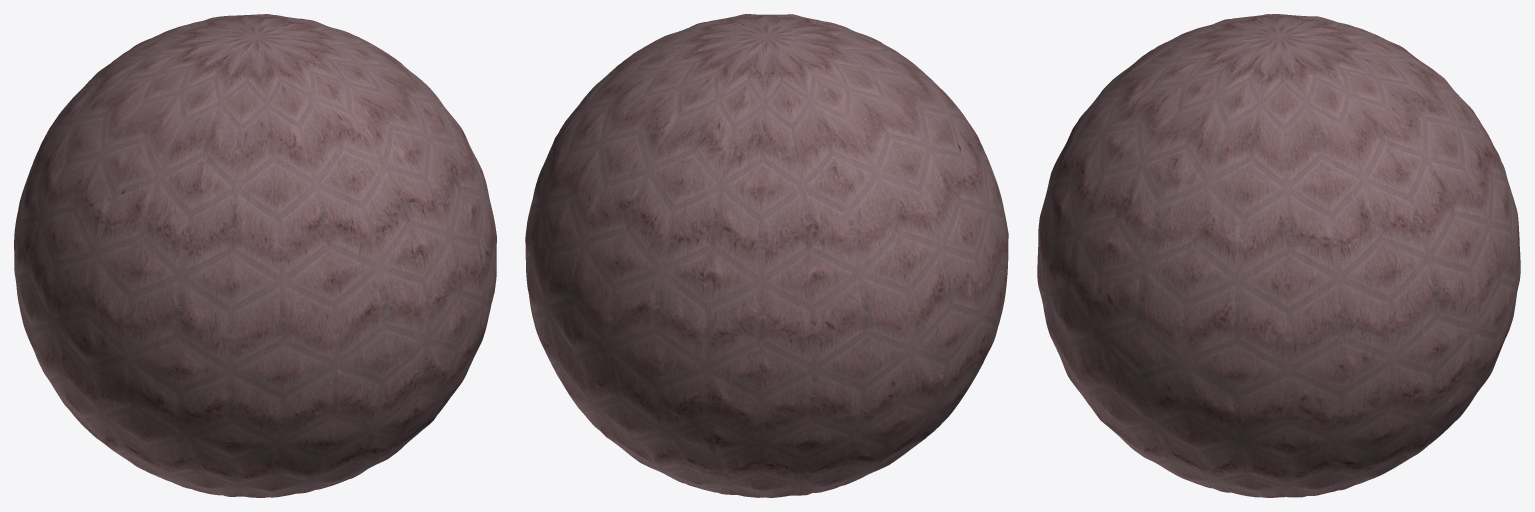
Rendered from faux_fur_geometric_1k.gltf.
3 renders of one model, left to right at view 1: azimuth 30°, elevation 25°; view 2: azimuth 150°, elevation 25°; view 3: azimuth 270°, elevation 25°, orthographic.
Visible parts, largest first — view 1: sphere_gltf; view 2: sphere_gltf; view 3: sphere_gltf.
Part boxes in pixels (x1,y1,x2,y2): sphere_gltf: [14, 14, 496, 497]; sphere_gltf: [525, 14, 1008, 497]; sphere_gltf: [1037, 14, 1520, 497].
Size of the model in its own units: 0.302 by 0.3019 by 0.3018.
1 material, 1 textured.
